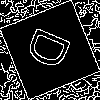D: (25, 25, 80, 76)
